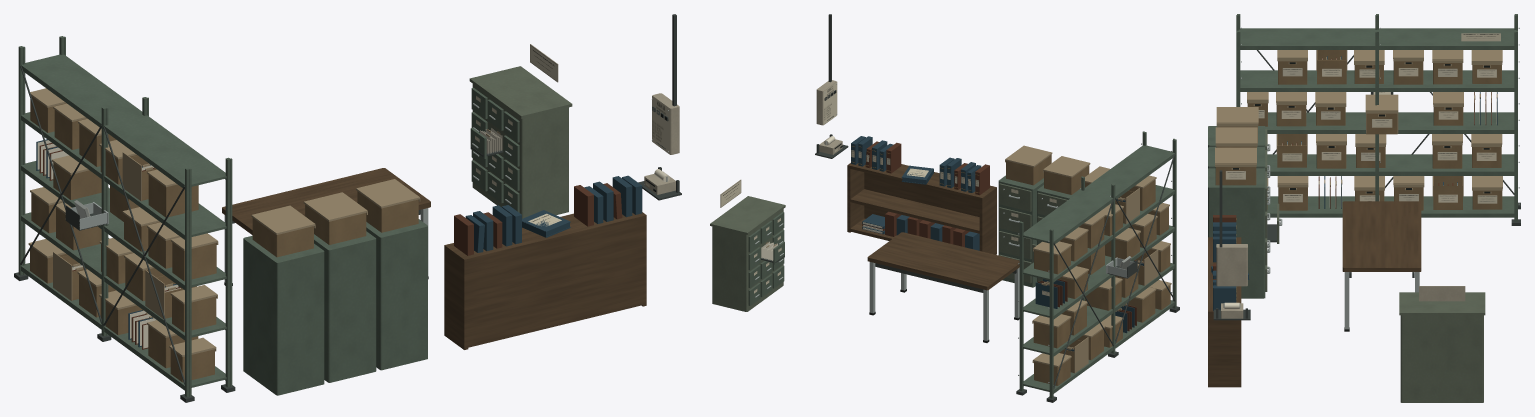
Rendered from SARO_Archive.glb.
3 views of the same model, side by side, from view 1: azimuth 30°, elevation 25°; view 2: azimuth 150°, elevation 25°; view 3: azimuth 270°, elevation 25° (orthographic). The views are drawn at different scales.
Visible parts, largest first — view 1: SM_ArchiveProps_ShelvingStorage, SM_ArchiveProps_FilingCabinets, SM_ArchiveProps_Bookcase, SM_ArchiveProps_CardIndex, SM_ArchiveProps_WorkTable, SM_ArchiveProps_Switchboard, SM_ArchiveProps_ServiceBinder, SM_ArchiveProps_CallRecorder, SM_ArchiveProps_FireDrawer; view 2: SM_ArchiveProps_ShelvingStorage, SM_ArchiveProps_Bookcase, SM_ArchiveProps_CardIndex, SM_ArchiveProps_FilingCabinets, SM_ArchiveProps_WorkTable, SM_ArchiveProps_Switchboard, SM_ArchiveProps_CallRecorder, SM_ArchiveProps_ServiceBinder, SM_ArchiveProps_FireDrawer; view 3: SM_ArchiveProps_ShelvingStorage, SM_ArchiveProps_CardIndex, SM_ArchiveProps_FilingCabinets, SM_ArchiveProps_WorkTable, SM_ArchiveProps_Bookcase, SM_ArchiveProps_Switchboard, SM_ArchiveProps_FieldBox, SM_ArchiveProps_CallRecorder.
Part boxes in pixels (x1,y1,x2,y2): SM_ArchiveProps_ShelvingStorage: (14,36,235,402); SM_ArchiveProps_FilingCabinets: (243,179,427,395); SM_ArchiveProps_Bookcase: (444,175,646,349); SM_ArchiveProps_CardIndex: (469,44,572,218); SM_ArchiveProps_WorkTable: (222,168,430,285); SM_ArchiveProps_Switchboard: (652,14,679,154); SM_ArchiveProps_ServiceBinder: (522,210,570,237); SM_ArchiveProps_CallRecorder: (638,167,681,200); SM_ArchiveProps_FireDrawer: (65,202,108,230); SM_ArchiveProps_ShelvingStorage: (1016,131,1179,402); SM_ArchiveProps_Bookcase: (847,136,996,254); SM_ArchiveProps_CardIndex: (710,179,785,311); SM_ArchiveProps_FilingCabinets: (998,145,1109,287); SM_ArchiveProps_WorkTable: (867,232,1019,342); SM_ArchiveProps_Switchboard: (816,14,837,125); SM_ArchiveProps_CallRecorder: (815,134,848,158); SM_ArchiveProps_ServiceBinder: (901,165,933,184); SM_ArchiveProps_FireDrawer: (1106,257,1137,278); SM_ArchiveProps_ShelvingStorage: (1236,14,1520,225); SM_ArchiveProps_CardIndex: (1399,286,1485,402); SM_ArchiveProps_FilingCabinets: (1208,107,1282,298); SM_ArchiveProps_WorkTable: (1342,201,1421,331); SM_ArchiveProps_Bookcase: (1208,215,1241,387); SM_ArchiveProps_Switchboard: (1216,170,1247,286); SM_ArchiveProps_FieldBox: (1365,94,1398,134); SM_ArchiveProps_CallRecorder: (1213,302,1250,320).
Size of the model in its own units: 5.31 by 2.75 by 3.38.
15 materials, 6 textured.
